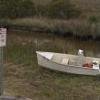Boat: (30, 43, 100, 92)
